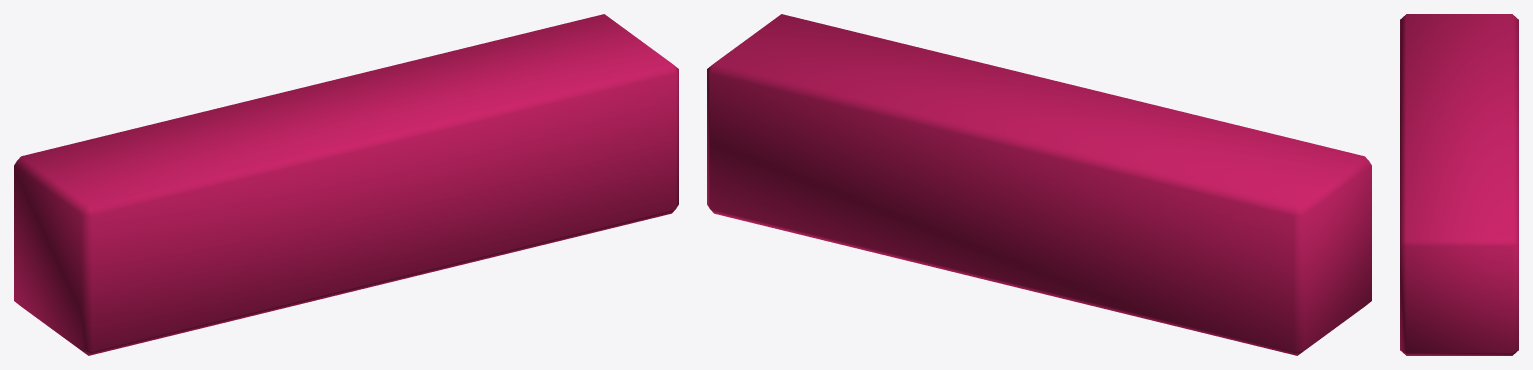
Rendered from wide wall_pink.fbx.
3 views of the same model, side by side, from view 1: azimuth 30°, elevation 25°; view 2: azimuth 150°, elevation 25°; view 3: azimuth 270°, elevation 25° (orthographic). The views are drawn at different scales.
Visible parts, largest first — view 1: wide wall_pink; view 2: wide wall_pink; view 3: wide wall_pink.
Boxes of the visible parts, x1=… form: wide wall_pink: x1=14, y1=14, x2=678, y2=355; wide wall_pink: x1=707, y1=14, x2=1371, y2=355; wide wall_pink: x1=1400, y1=14, x2=1518, y2=355.
Bounding box in the file's own units: 0.8318 × 0.2 × 0.1824.
